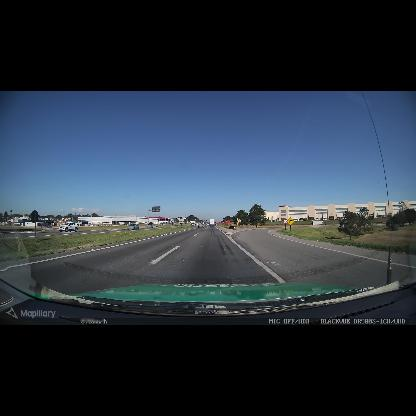A-24: (226, 220, 231, 224)
O-MP: (236, 218, 239, 225)
R-19: (284, 219, 287, 224), (239, 219, 241, 222)
